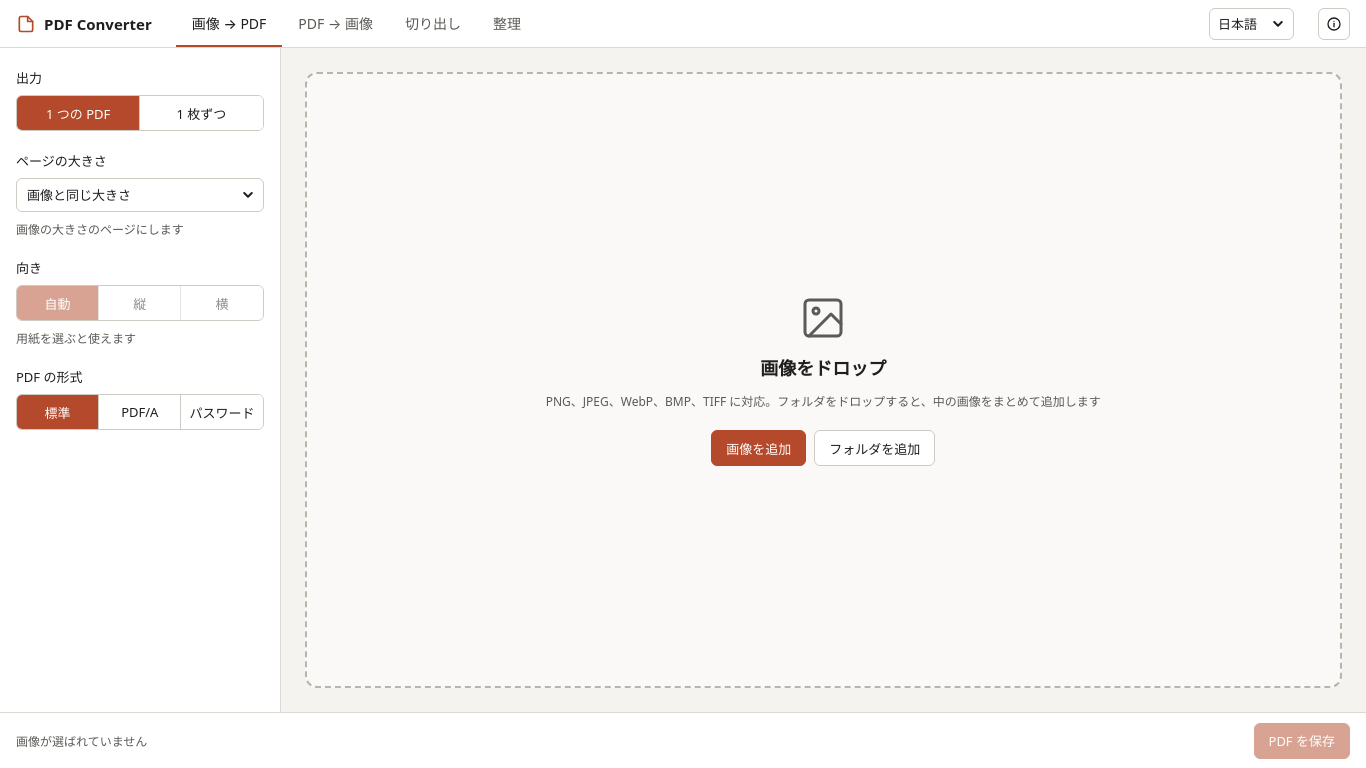
Test case: saving the pages as one PDF › asks for the password first when the setting says so, and sends it
Click the tab "整理". click: (507, 24)
box: x1=477 y1=0 x2=537 y2=47
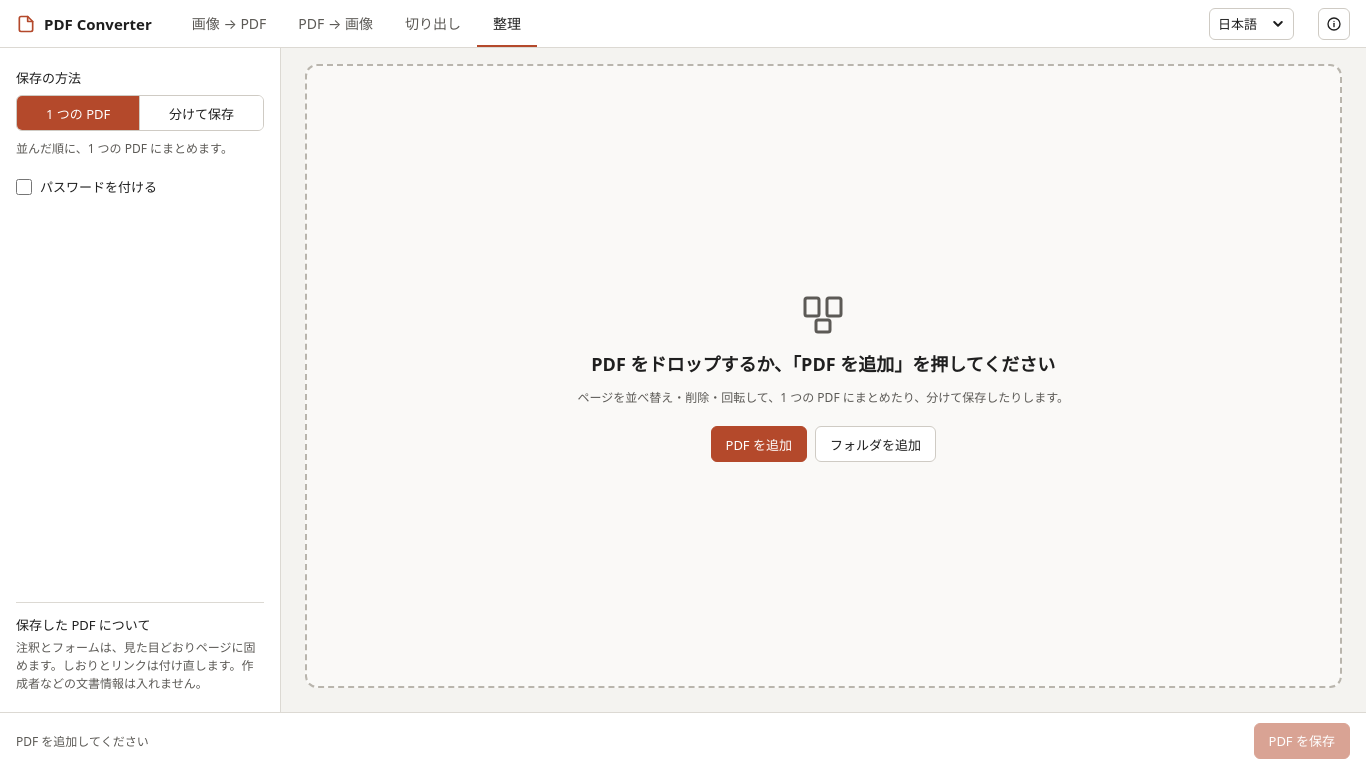
Click the button "PDF を追加". click: (759, 444)
box: x1=710 y1=426 x2=807 y2=462
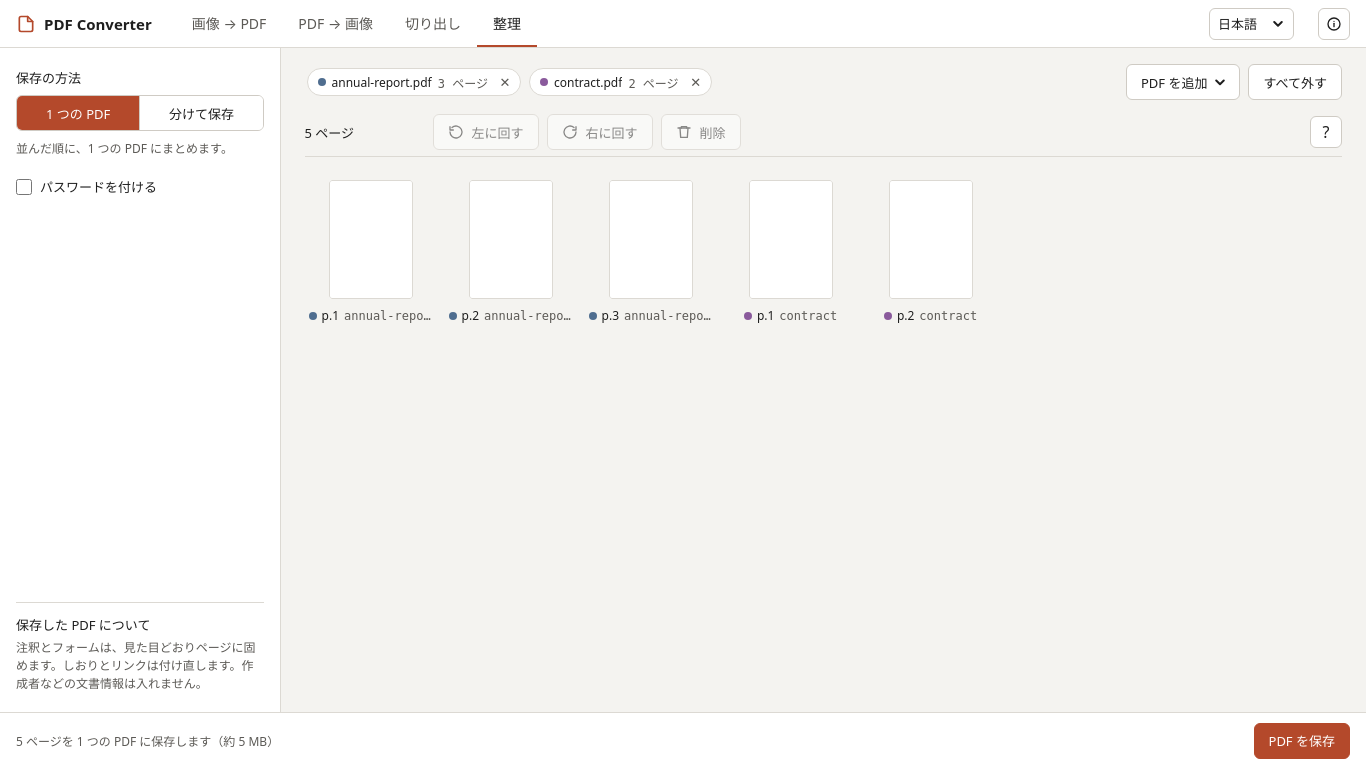
Click the checkbox labelled "パスワードを付ける". click: (24, 187)
box: x1=16 y1=179 x2=32 y2=195
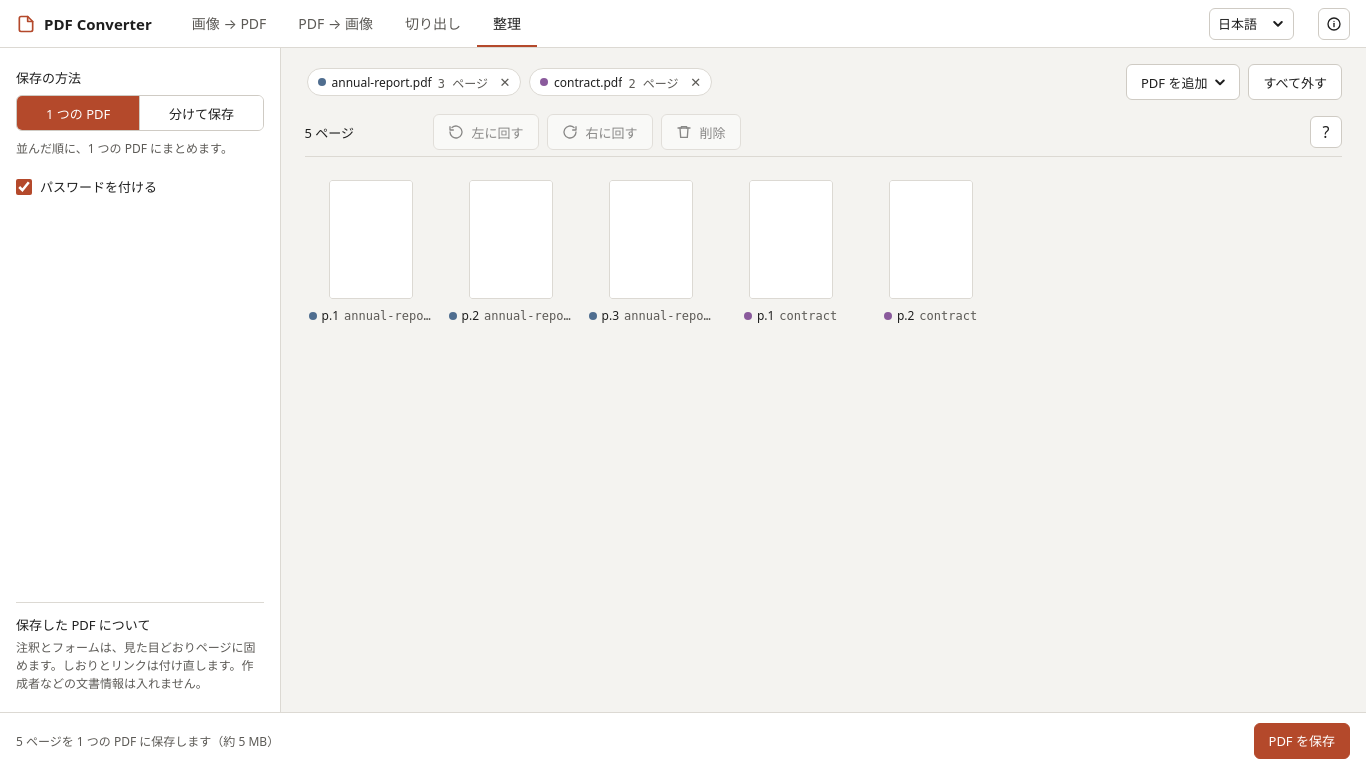
Click the button "PDF を保存". click: (1302, 740)
box: x1=1254 y1=722 x2=1350 y2=758
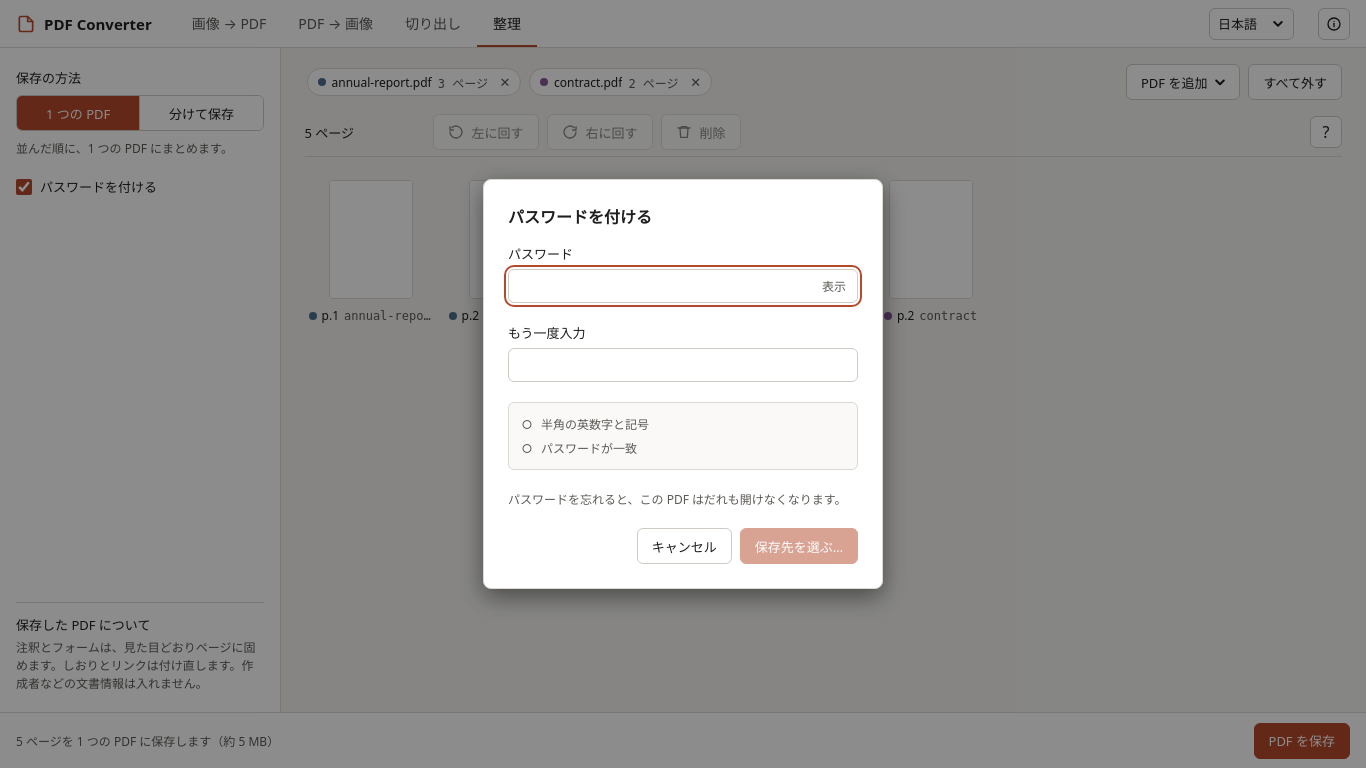
Now the button "保存先を選ぶ…" is disabled, box x1=740 y1=528 x2=858 y2=564
Type "s3cret" into the password field labelled "パスワード". click: (683, 286)
box: x1=508 y1=269 x2=858 y2=303
Type "s3cret" into the password field labelled "もう一度入力". click: (683, 365)
box: x1=508 y1=348 x2=858 y2=382
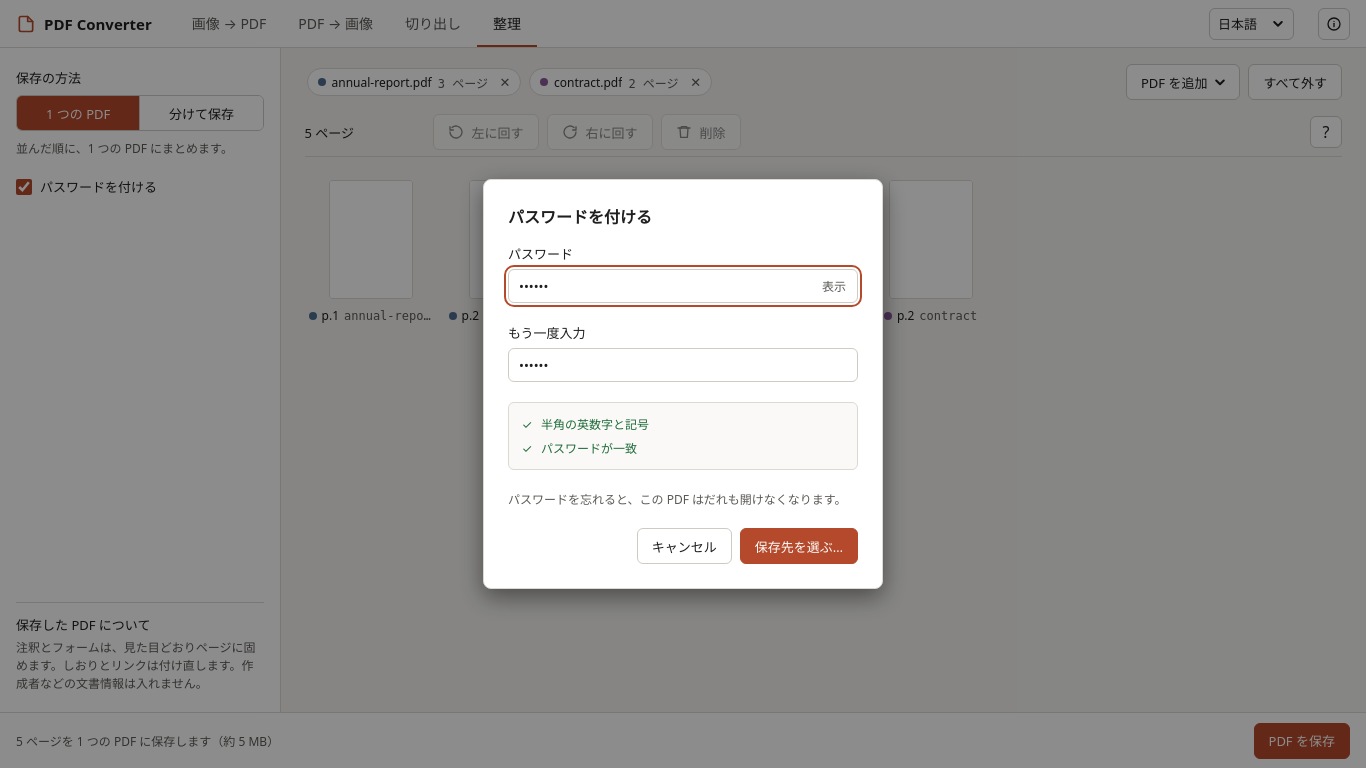
Click the button "保存先を選ぶ…". click: (799, 546)
box: x1=740 y1=528 x2=858 y2=564
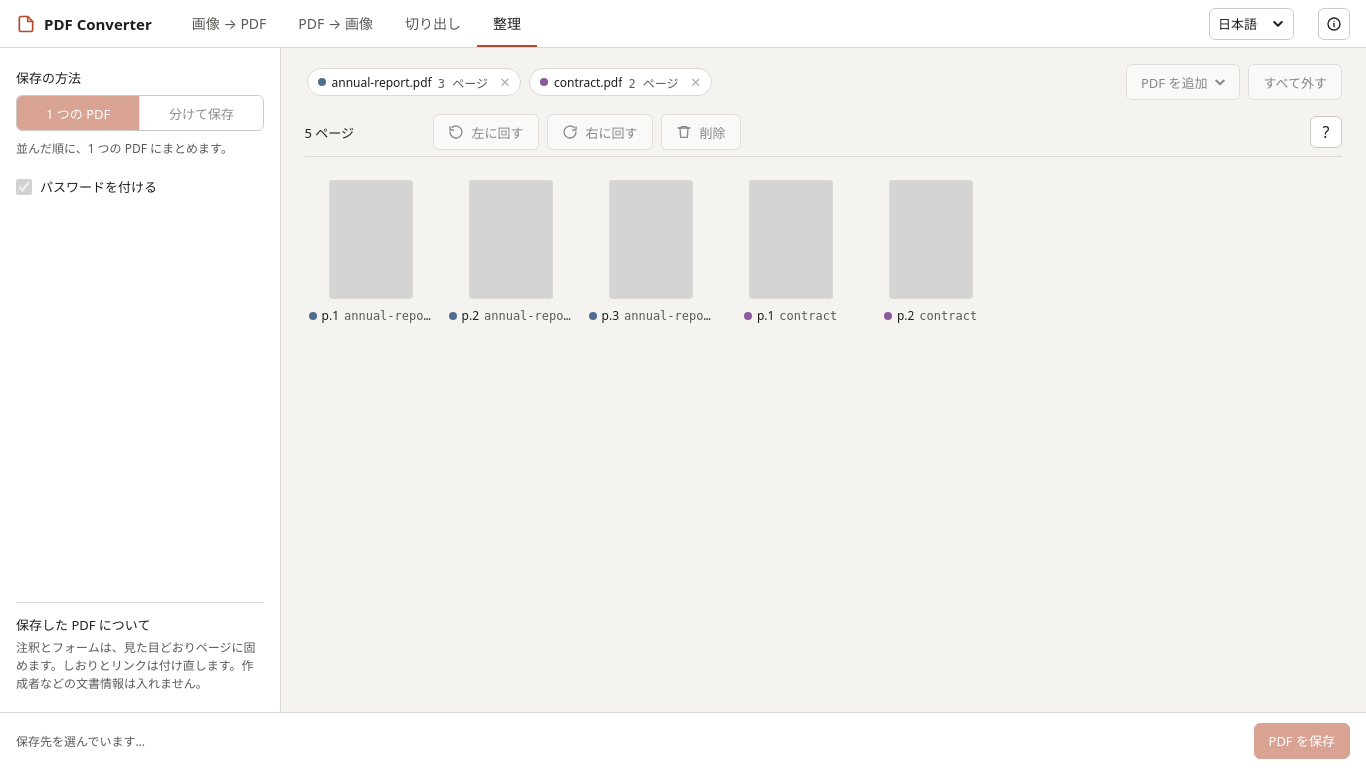
Now the dialog is gone
